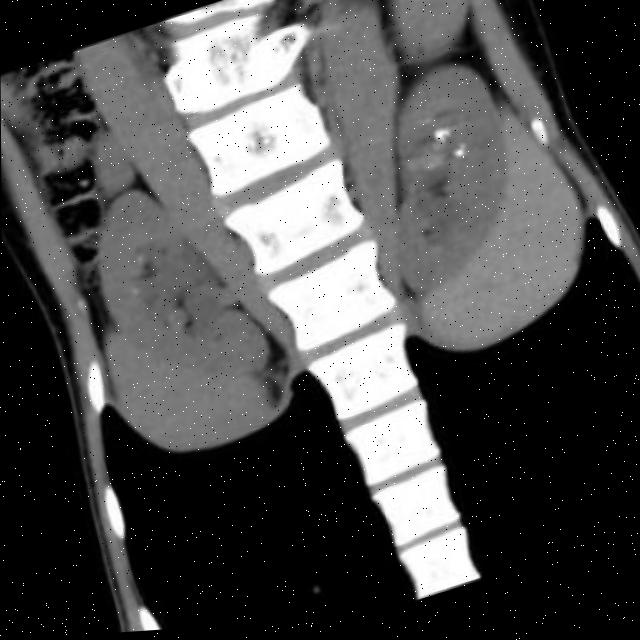Tas_Var: (452, 153, 470, 168), (130, 285, 145, 299), (432, 134, 448, 147), (134, 253, 147, 268), (456, 145, 469, 156), (439, 142, 448, 150), (444, 135, 452, 143)
